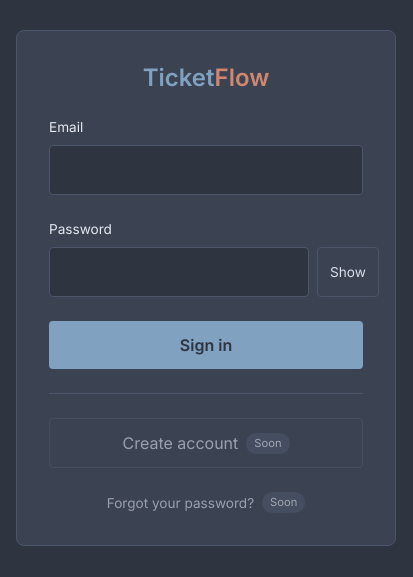
Test: LoginPage › muestra sólo el error del campo que falta cuando el otro sí se llenó
# envía el formulario sin password
Type "sofia.hernandez@ticketflow.com" into the field labelled "Email" at (206, 170), box [49,145,363,195]
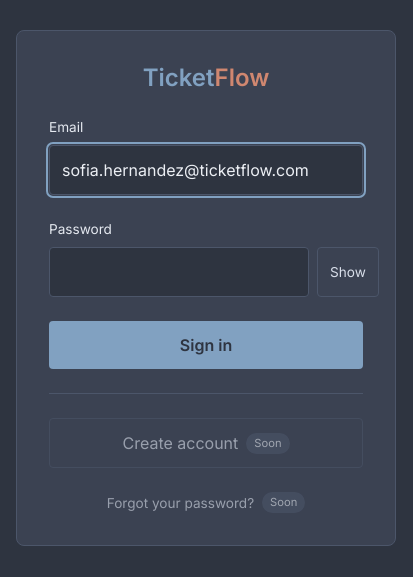
Click the button "Sign in" at (206, 346), box [49,322,363,370]
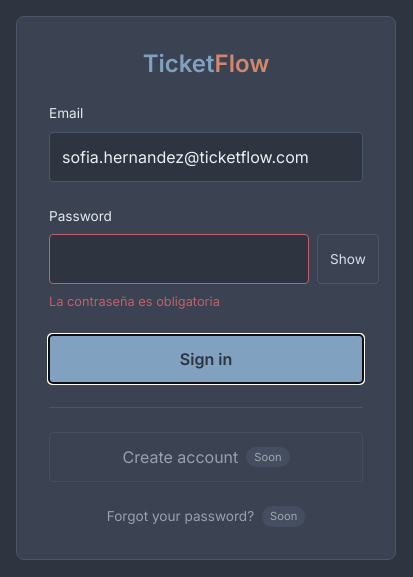
Check: the text "La contraseña es obligatoria" is shown, box [49,294,220,309]
